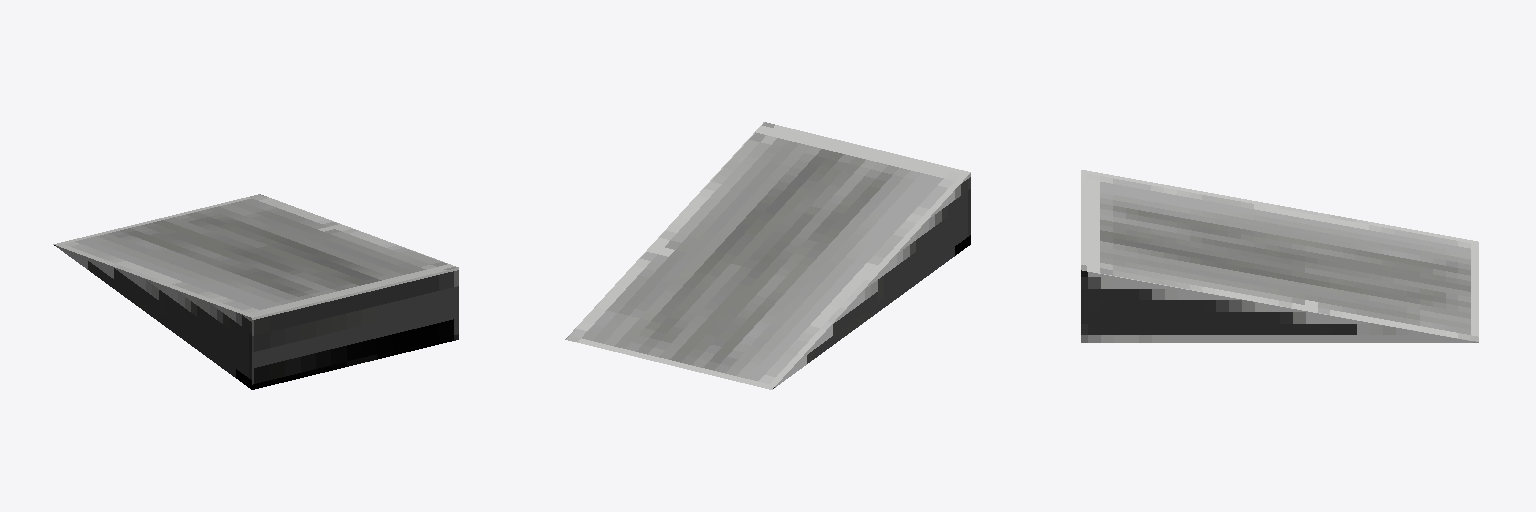
The picture shows the model from 3 angles: view 1: azimuth 30°, elevation 25°; view 2: azimuth 150°, elevation 25°; view 3: azimuth 270°, elevation 25°; orthographic projection.
Visible parts, largest first — view 1: ramp_Plane.001; view 2: ramp_Plane.001; view 3: ramp_Plane.001.
Boxes of the visible parts, x1=… form: ramp_Plane.001: x1=53, y1=194, x2=458, y2=389; ramp_Plane.001: x1=565, y1=122, x2=970, y2=389; ramp_Plane.001: x1=1081, y1=170, x2=1478, y2=342.
Bounding box in the file's own units: 6 × 2 × 10.
1 materials, 1 textured.